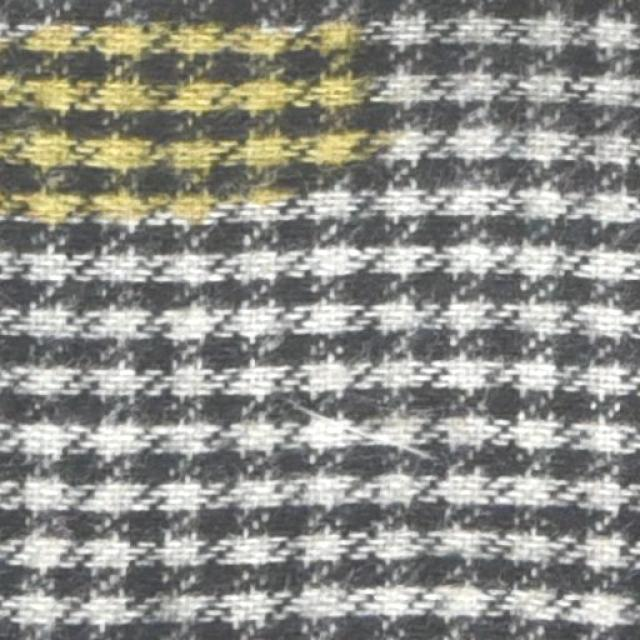Stain: (0, 2, 394, 227)
